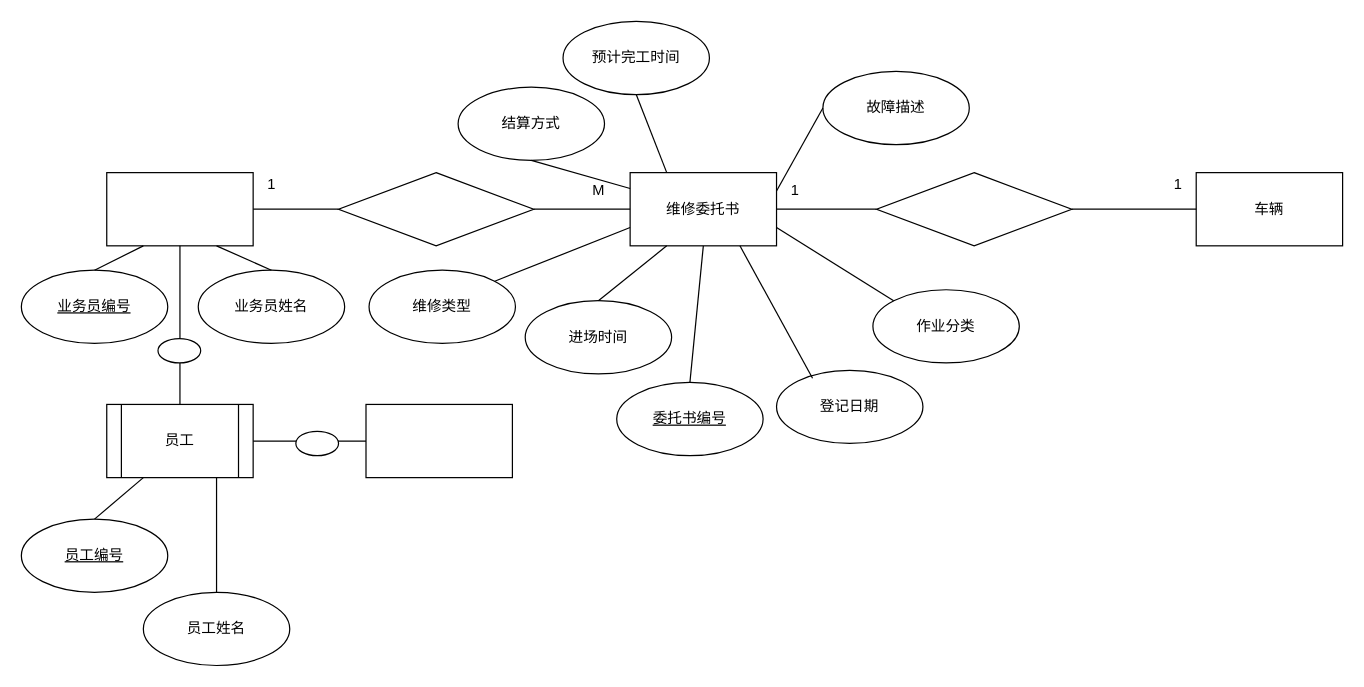
Image size: 1364x687. Some labels were removed from this diagram. The centre of each missing label's shape, as x and y in pixels:
业务员: (x=179, y=208)
登记: (x=435, y=208)
维修员: (x=438, y=440)
记录故障: (x=973, y=208)
